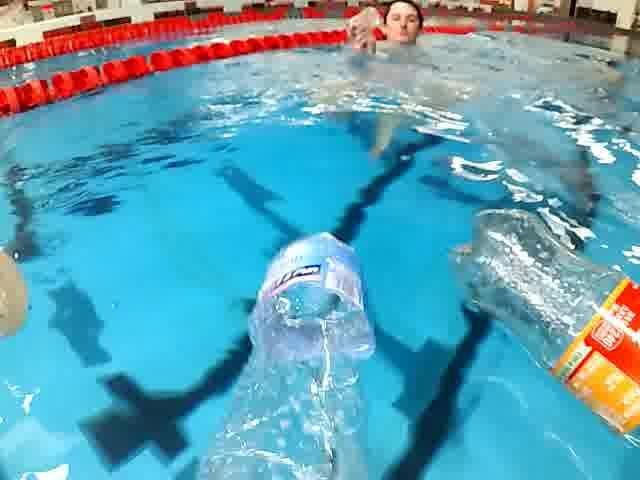Bottle: (442, 204, 640, 459), (194, 225, 379, 480)
